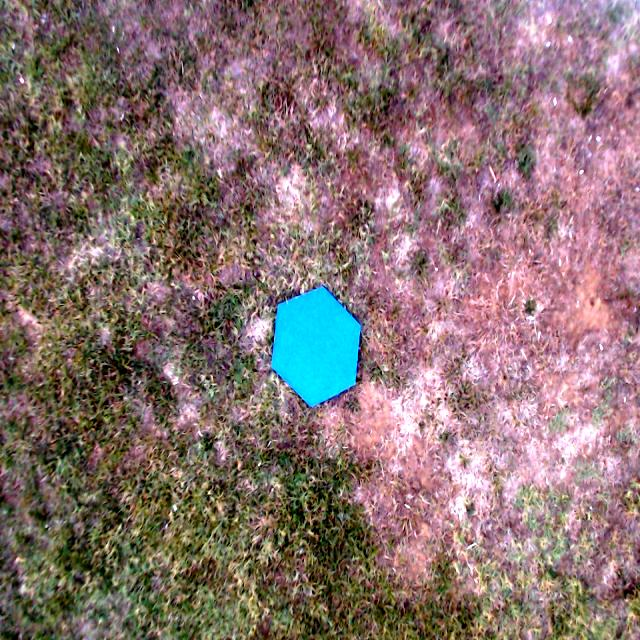blue_hexagon: (270, 285, 362, 409)
